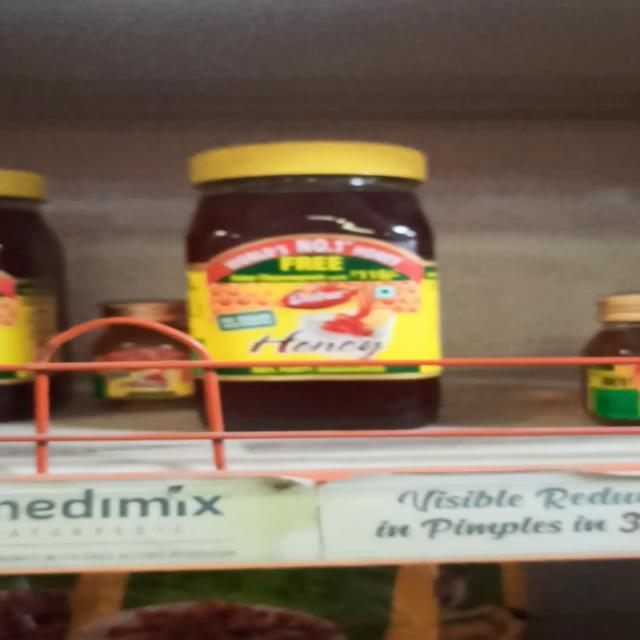Dabur Honey: (180, 142, 457, 438)
